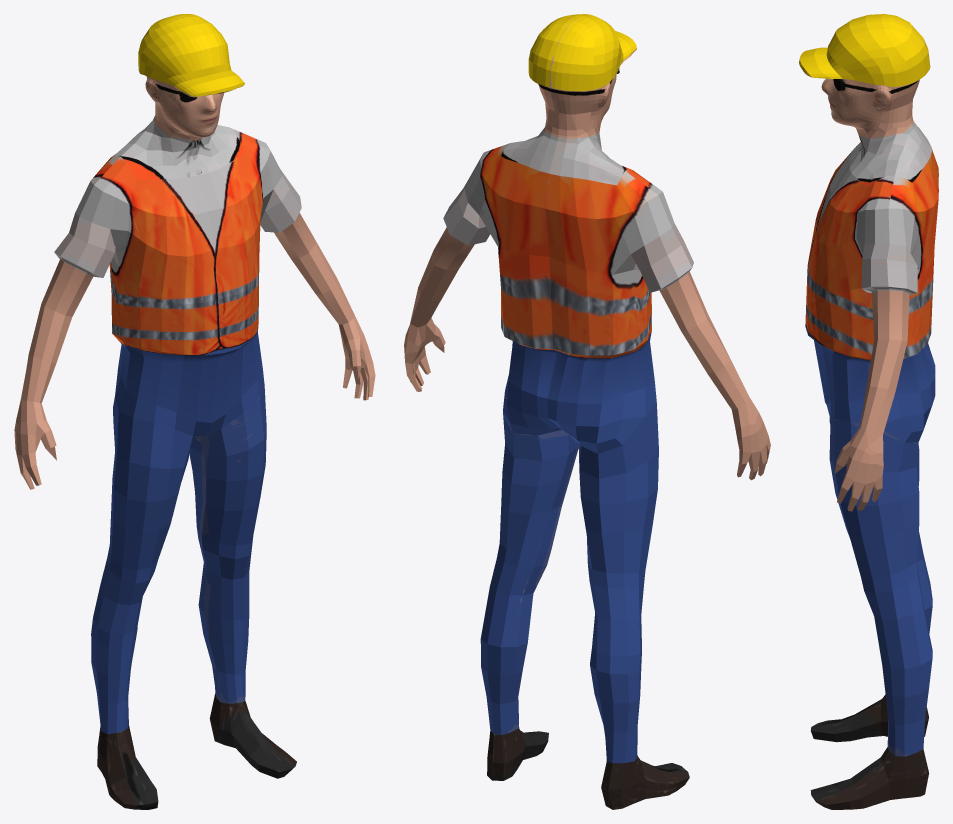
File: HIGHPOLYMAN.obj
The picture shows the model from 3 angles, left to right: view 1: azimuth 30°, elevation 25°; view 2: azimuth 150°, elevation 25°; view 3: azimuth 270°, elevation 25°; orthographic projection.
Visible parts, largest first — view 1: humanBody2:humanBody_1 group; view 2: humanBody2:humanBody_1 group; view 3: humanBody2:humanBody_1 group.
Part boxes in pixels (x1,y1,x2,y2): humanBody2:humanBody_1 group: (14,14,375,809); humanBody2:humanBody_1 group: (404,14,770,809); humanBody2:humanBody_1 group: (799,14,938,809).
Size of the model in its own units: 89.53 by 184 by 31.03.
